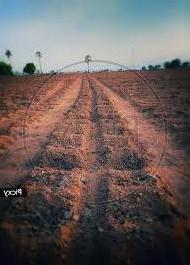vehicle_track: (95, 80, 190, 221), (0, 74, 81, 190), (68, 86, 105, 265), (0, 79, 64, 135)
